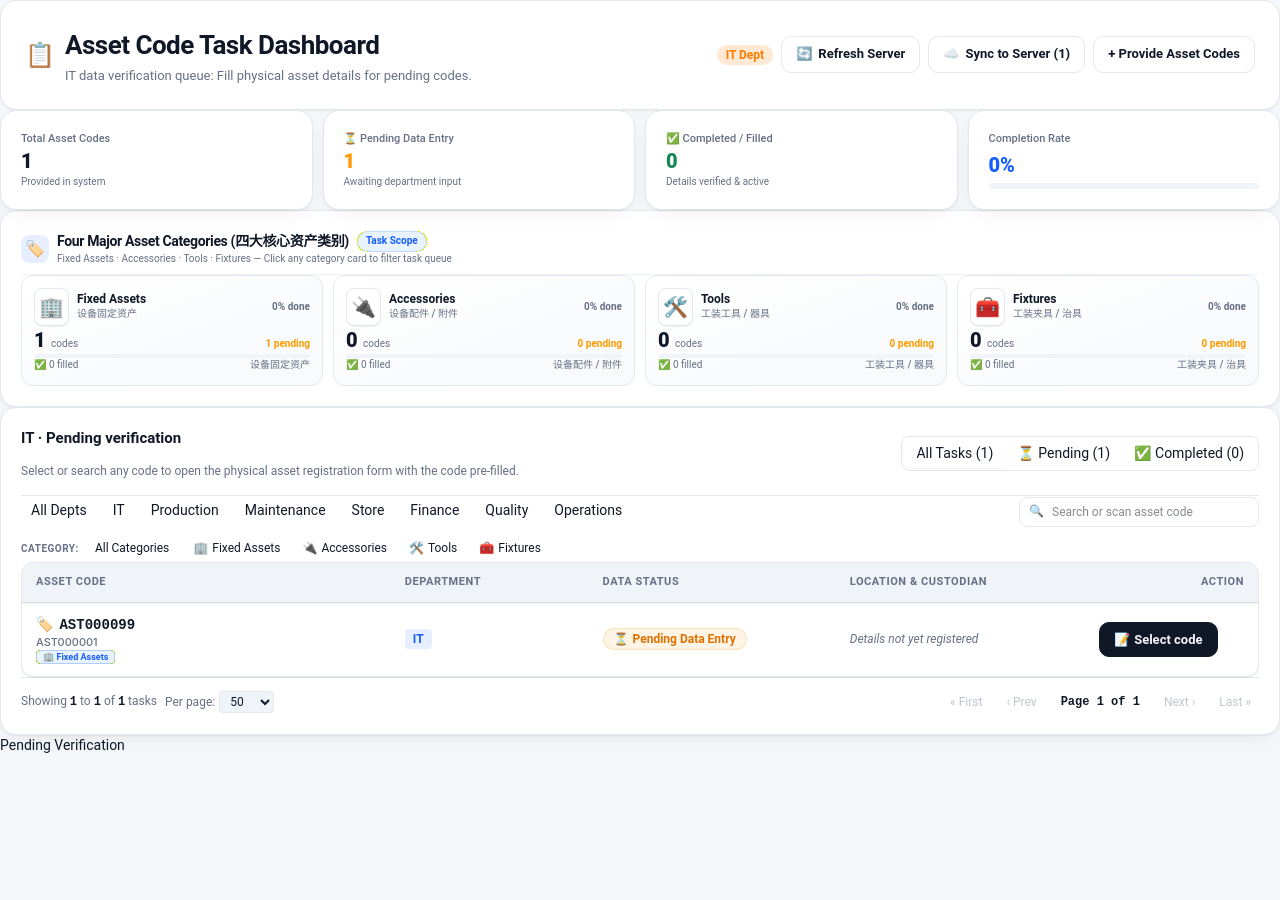
Test: Asset code workflow › opens the full Add Asset form for the selected code and updates it to Completed
Click the button "📝 Select code": (1158, 639) top-left (1099, 622), bottom-right (1218, 657)
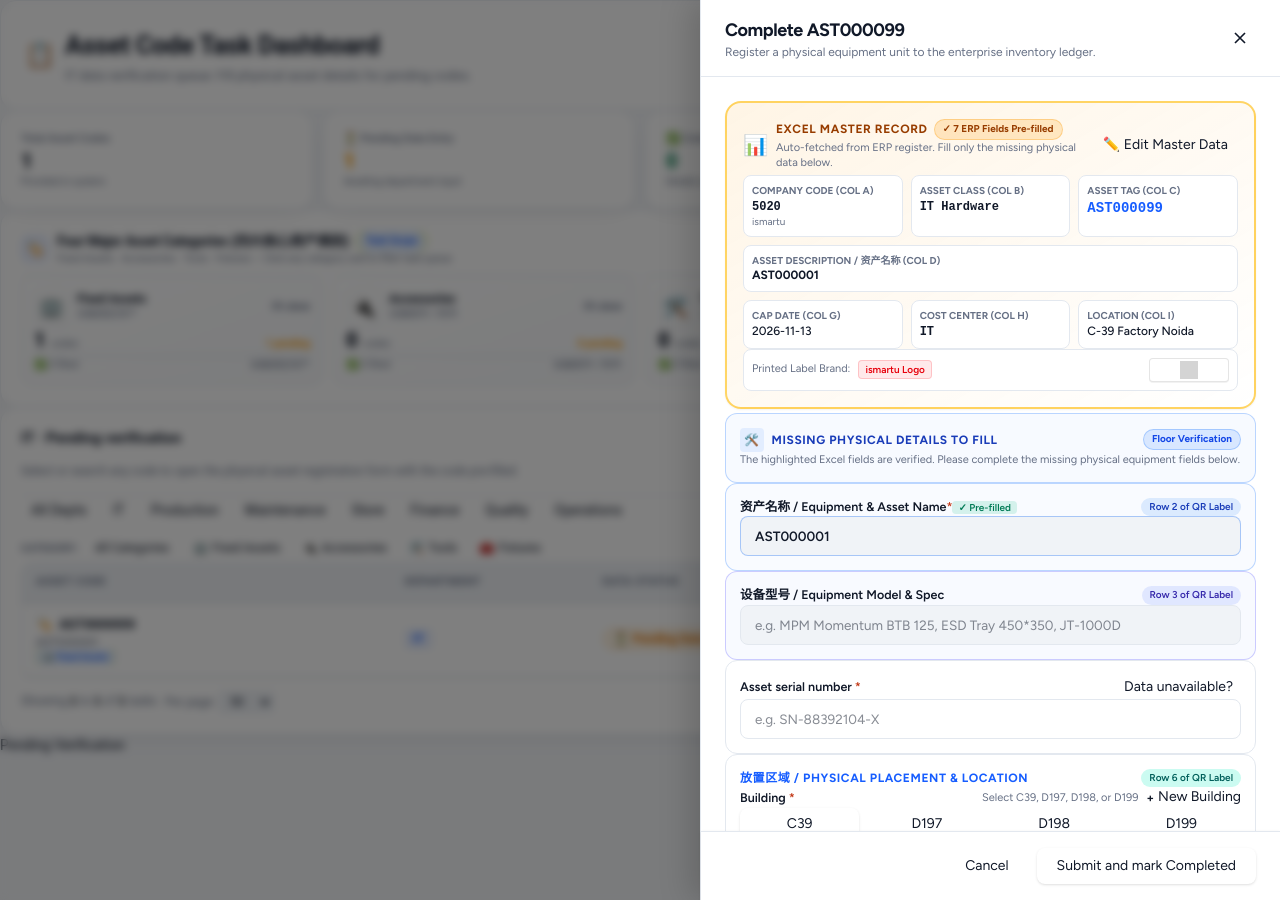
Expected: the heading "Complete AST000099" is shown, top-left (725, 19), bottom-right (904, 41)
In the field with placeholder "e.g. SN-88392104-X": (990, 719) top-left (740, 699), bottom-right (1241, 739), type "SN-123"
(page scrolled)
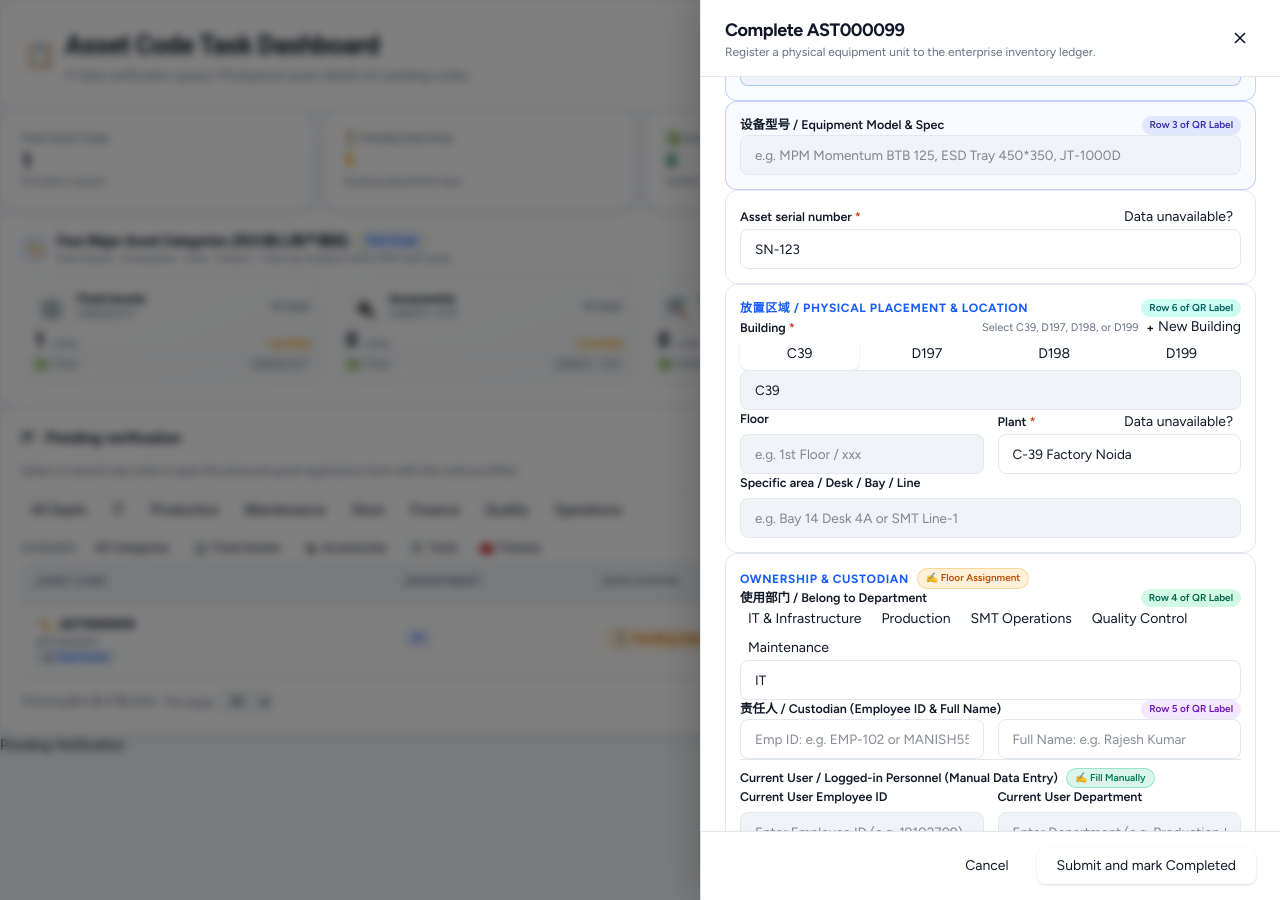
Replace the text in the field with placeholder "e.g. Pune Central Plant" with "Pune Plant": (1119, 454) top-left (998, 434), bottom-right (1241, 474)
(page scrolled)
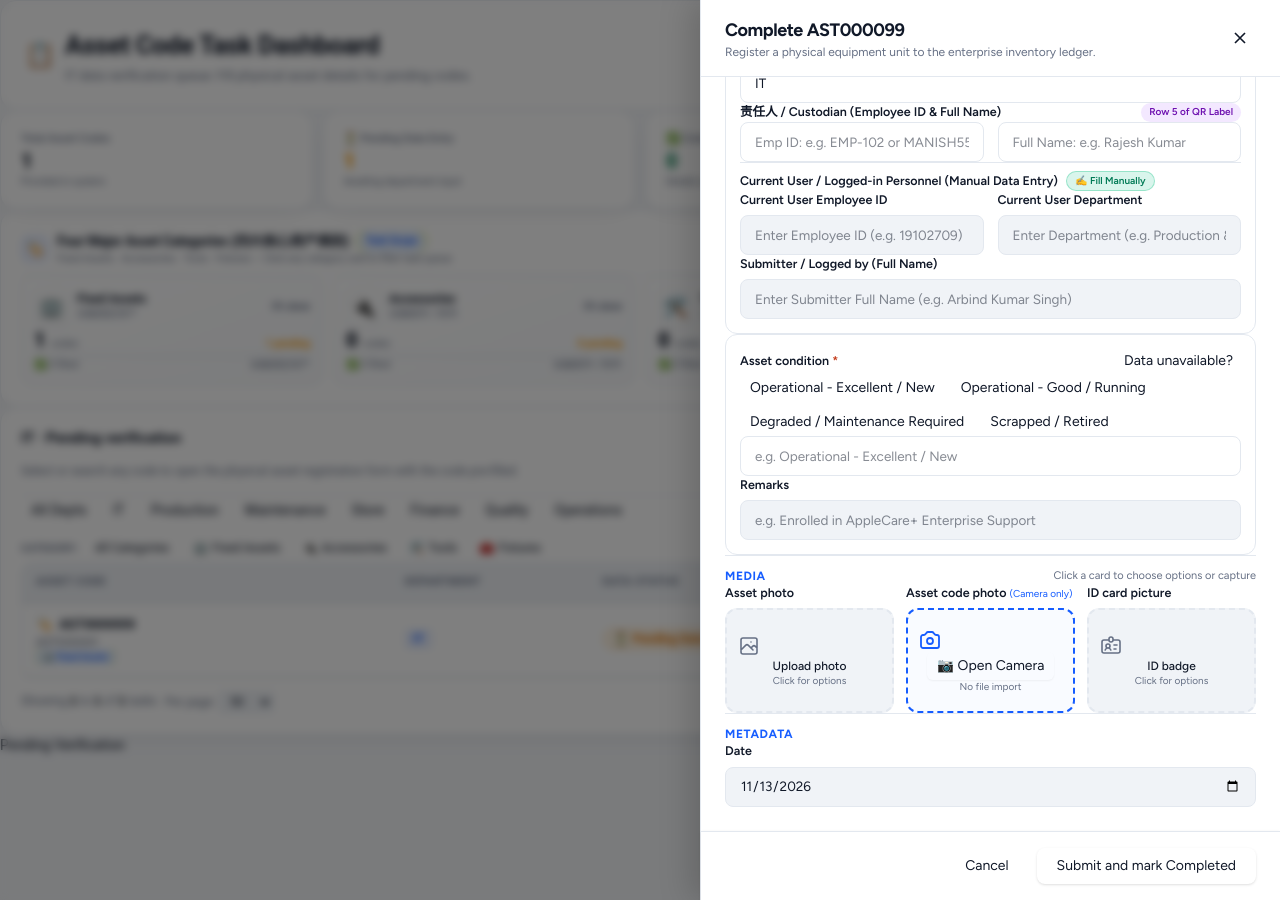
In the field with placeholder "e.g. Operational - Excellent / New": (990, 456) top-left (740, 436), bottom-right (1241, 476), type "Operational - Good"
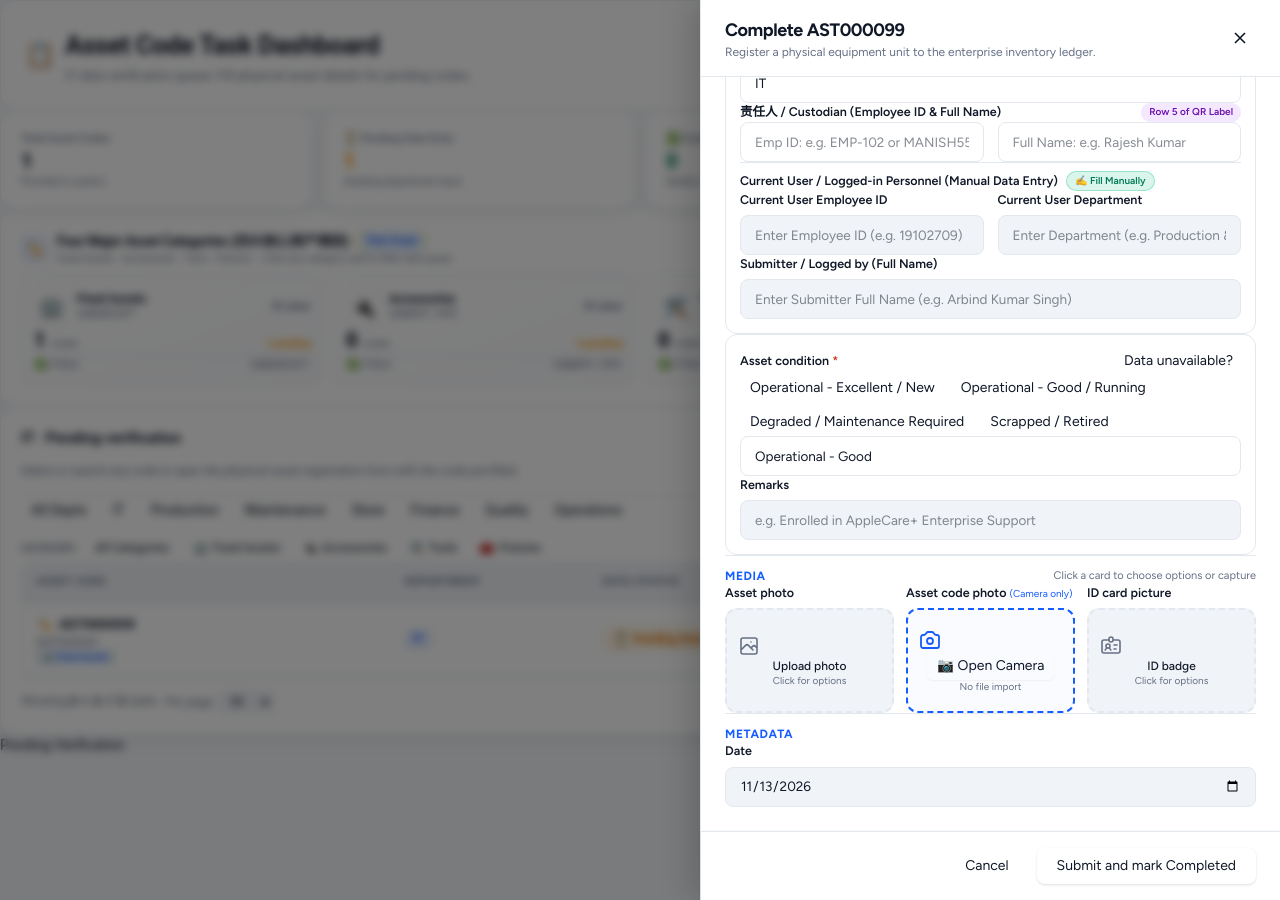
Click the button "Submit and mark Completed": (1146, 866) top-left (1037, 848), bottom-right (1256, 884)
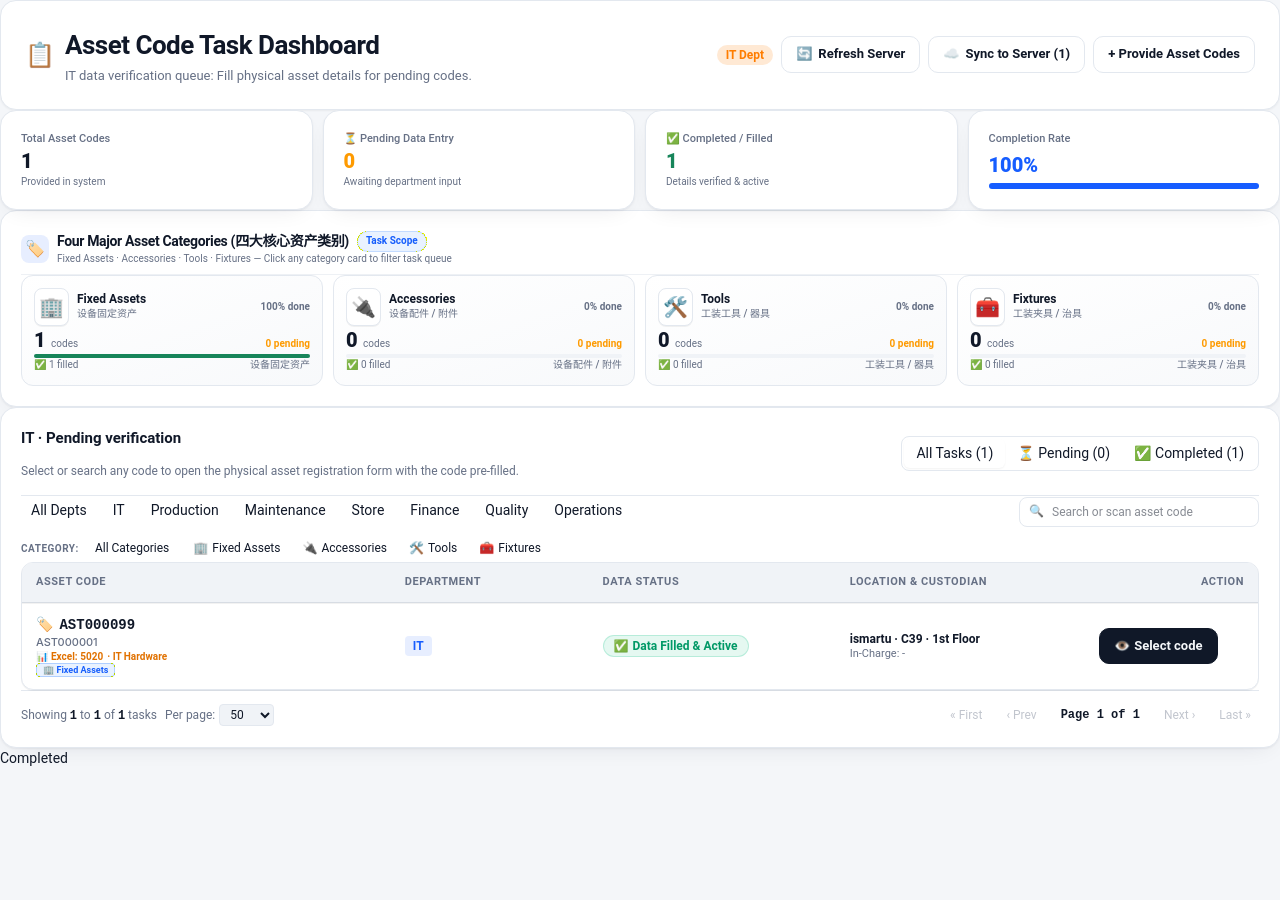
Expected: the text with test id "asset-status" reads "Completed", top-left (0, 750), bottom-right (68, 766)
